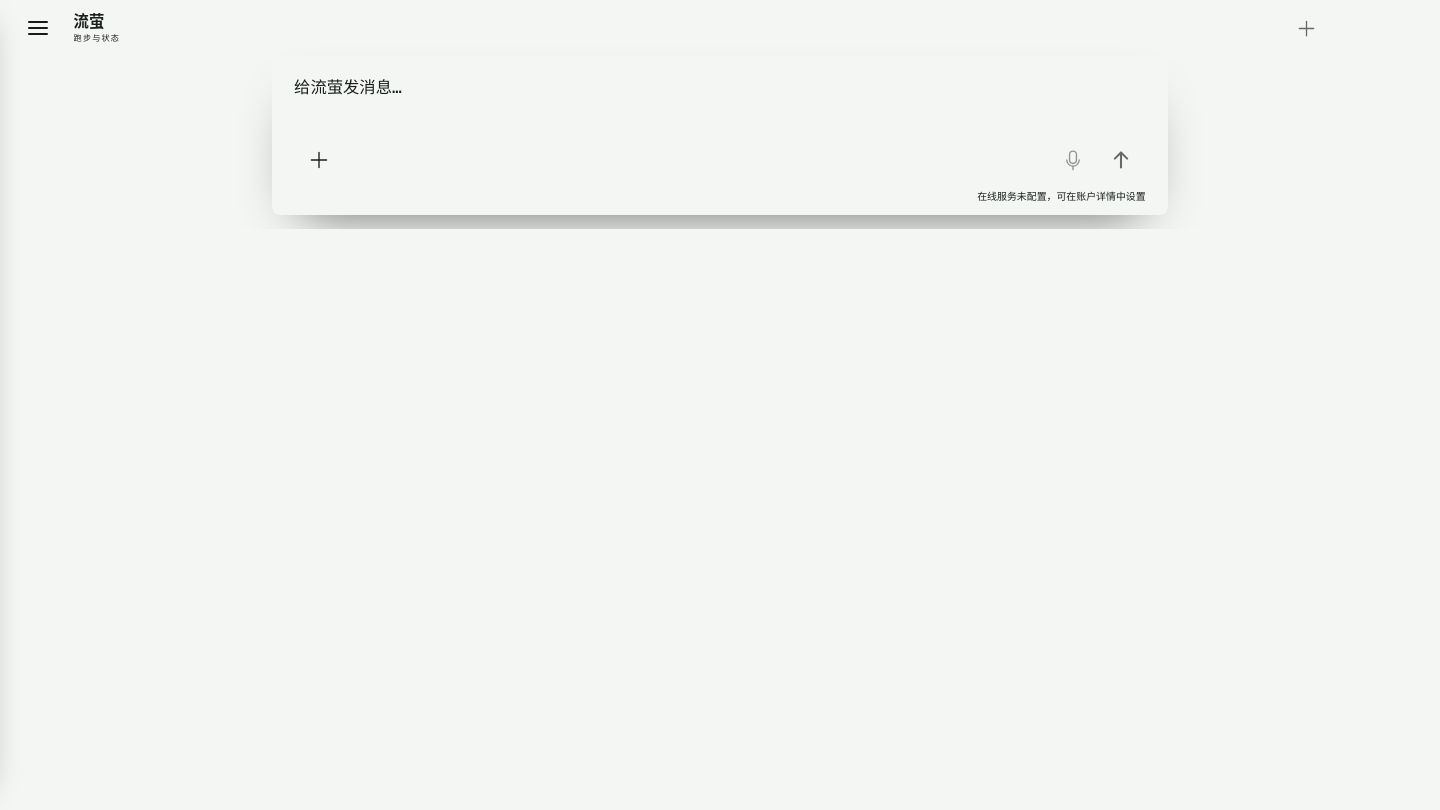
Scenario: 图标顶栏打开抽屉，Esc 关闭后焦点回到入口
The image size is (1440, 810).
Later steps or results of the test are not shown.
Click the button named "打开侧边栏": (38, 28) [16,6,60,50]
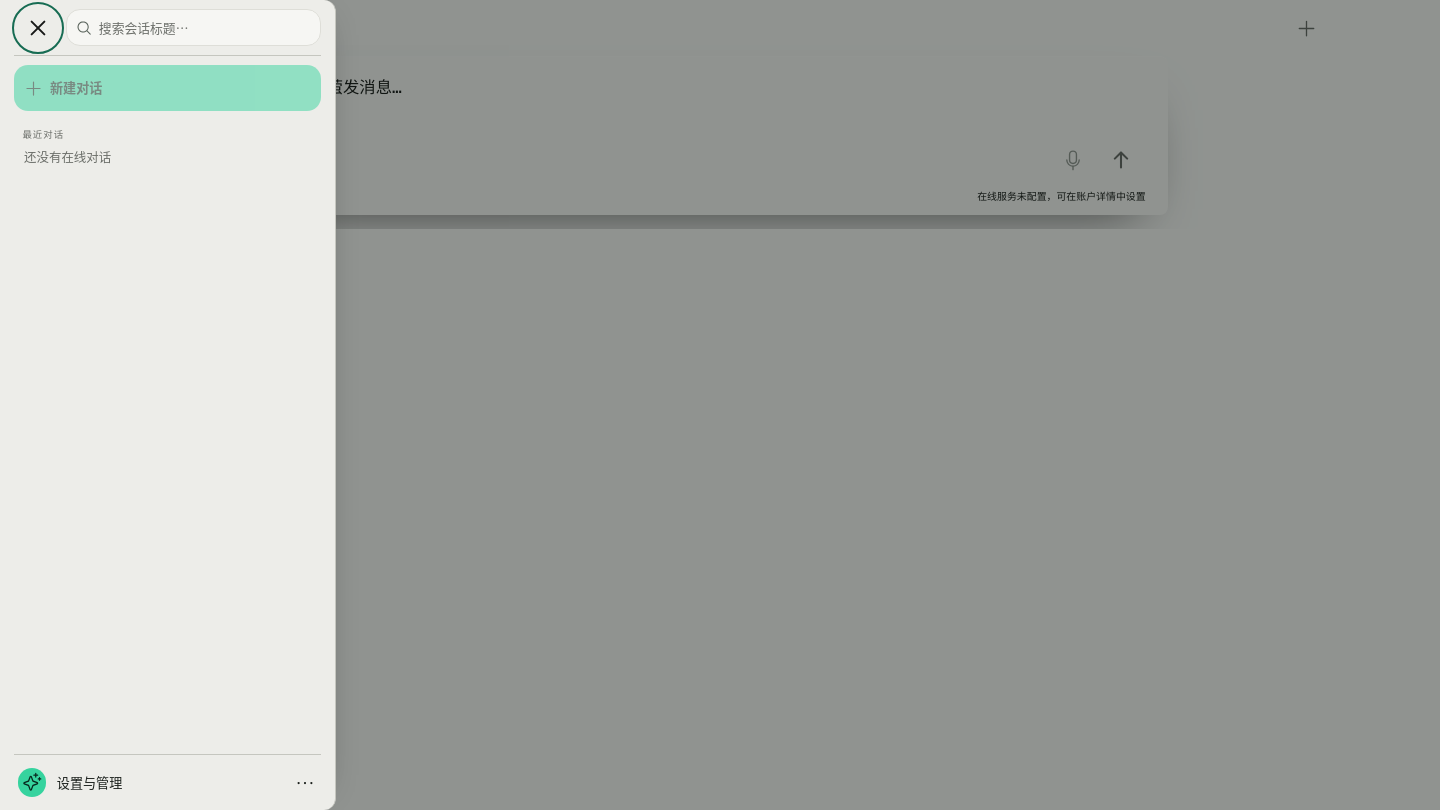
expect the dialog named "流萤" is shown: met
